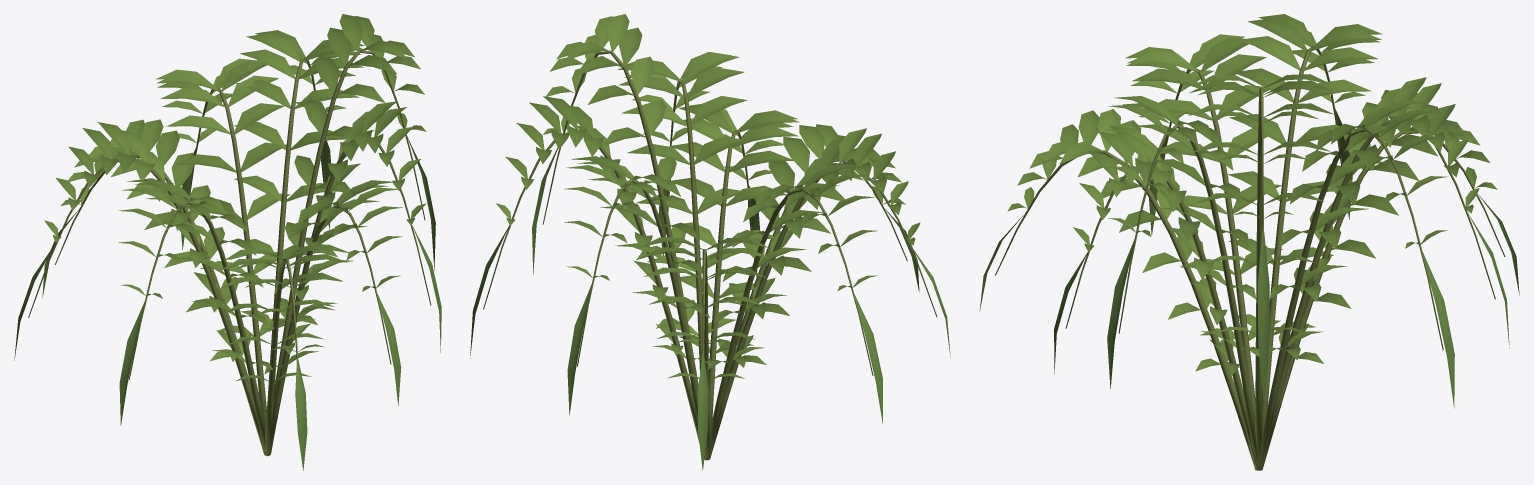
The model's file is fern_1_lod1.glb.
The picture shows the model from 3 angles, left to right: view 1: azimuth 30°, elevation 25°; view 2: azimuth 150°, elevation 25°; view 3: azimuth 270°, elevation 25°; orthographic projection. The views are drawn at different scales.
Parts seen in each view (by area): view 1: fern_1_lod1; view 2: fern_1_lod1; view 3: fern_1_lod1.
Part boxes in pixels (x1,y1,x2,y2): fern_1_lod1: [14, 14, 441, 470]; fern_1_lod1: [470, 14, 950, 470]; fern_1_lod1: [979, 14, 1519, 470].
Size of the model in its own units: 1.09 by 1.08 by 1.18.
